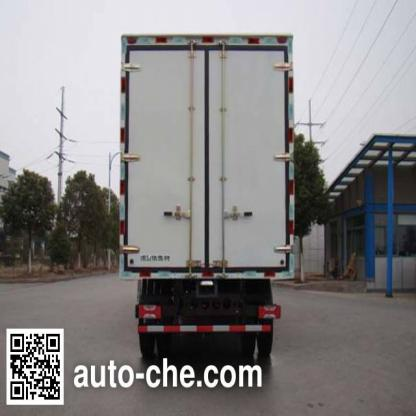normal-truck: (115, 23, 324, 331)
